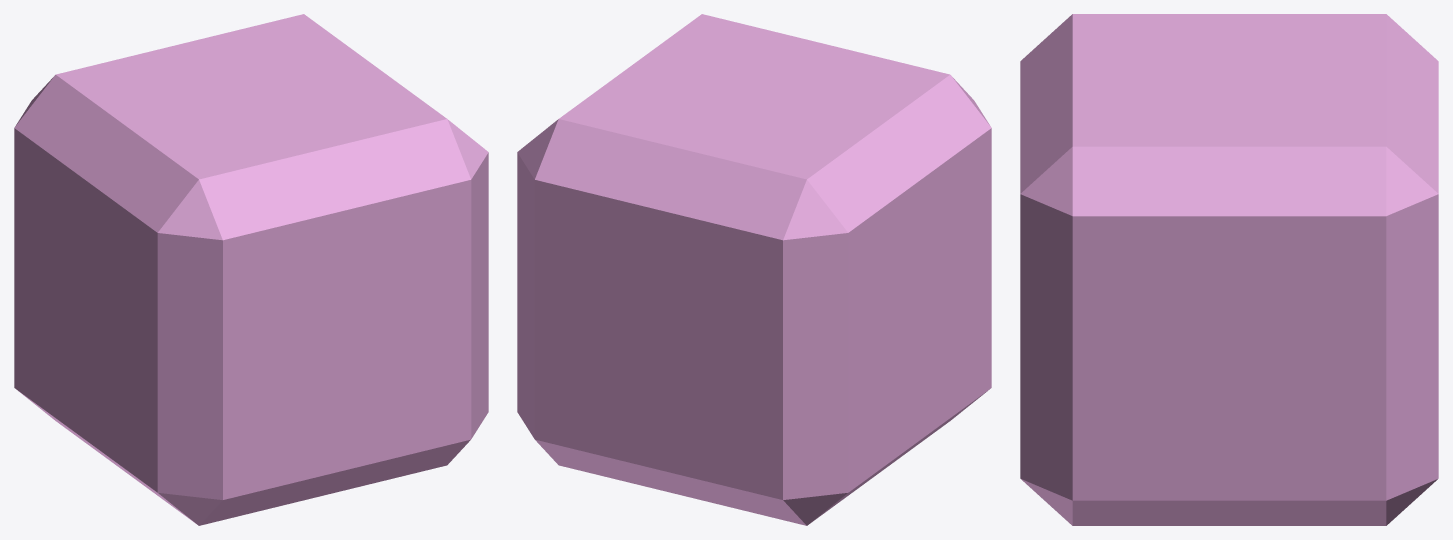
The model's file is Pink.fbx.
3 renders of one model, left to right at view 1: azimuth 30°, elevation 25°; view 2: azimuth 150°, elevation 25°; view 3: azimuth 270°, elevation 25°, orthographic. The views are drawn at different scales.
Parts seen in each view (by area): view 1: Pink.001; view 2: Pink.001; view 3: Pink.001.
Boxes of the visible parts, x1,y1,x2,y2 form: Pink.001: [14, 14, 488, 525]; Pink.001: [517, 14, 991, 525]; Pink.001: [1020, 14, 1438, 525].
Bounding box in the file's own units: 200 × 200 × 200.
